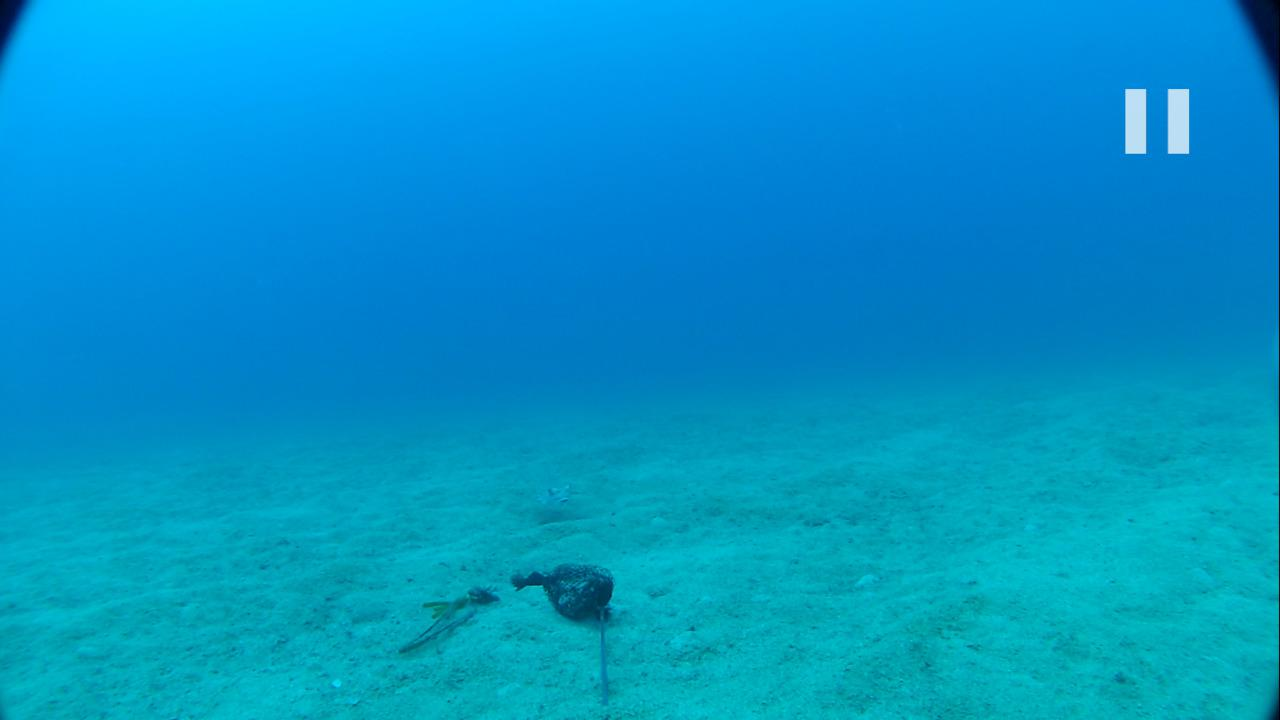dactylopterus: (519, 474, 581, 526)
